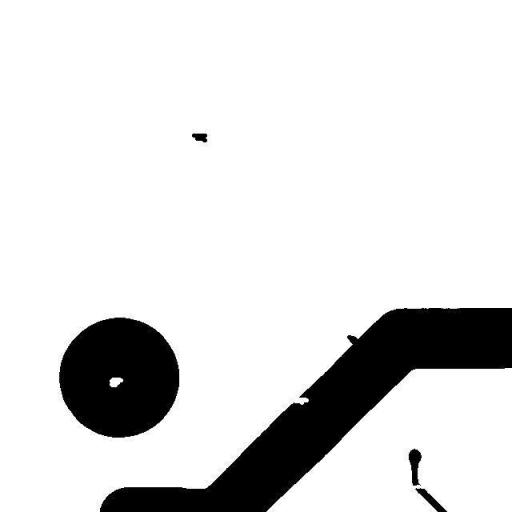copper: (186, 127, 212, 148)
mousebite: (286, 392, 314, 410)
open: (402, 478, 434, 498)
pin-hole: (103, 371, 129, 393)
spur: (341, 328, 365, 350)
